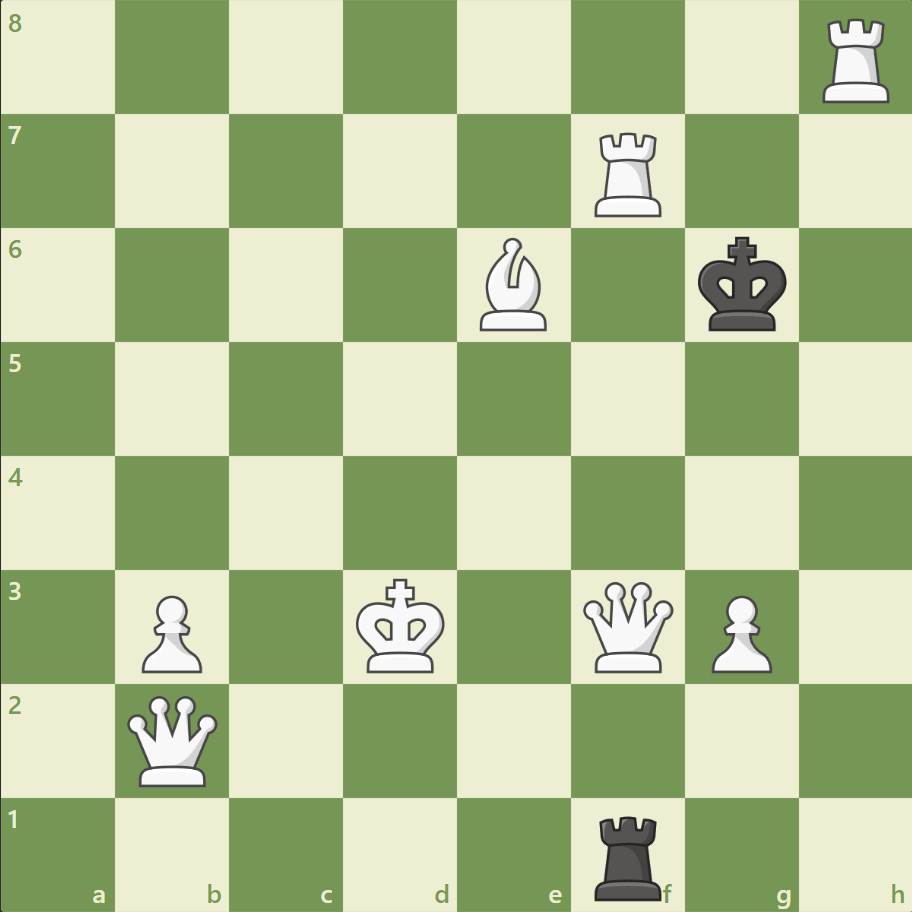B: (471, 233, 555, 336)
K: (351, 571, 451, 679)
P: (133, 586, 208, 677), (701, 586, 776, 677)
Q: (578, 576, 677, 676), (124, 690, 223, 789)
R: (814, 12, 897, 109), (587, 125, 670, 222)
k: (692, 231, 792, 339)
r: (587, 806, 670, 904)
